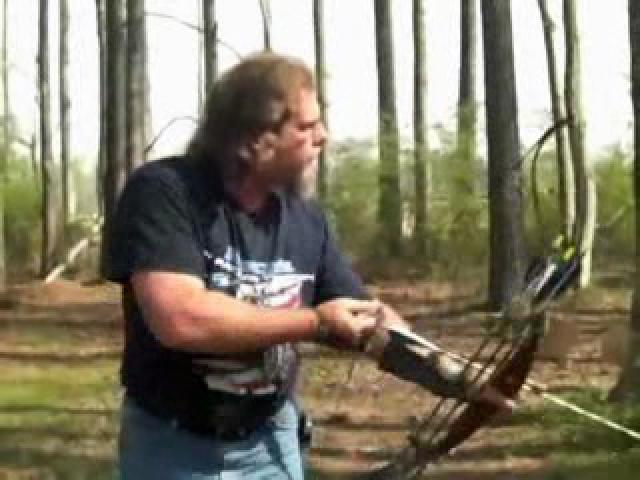I: (87, 35, 563, 433)
